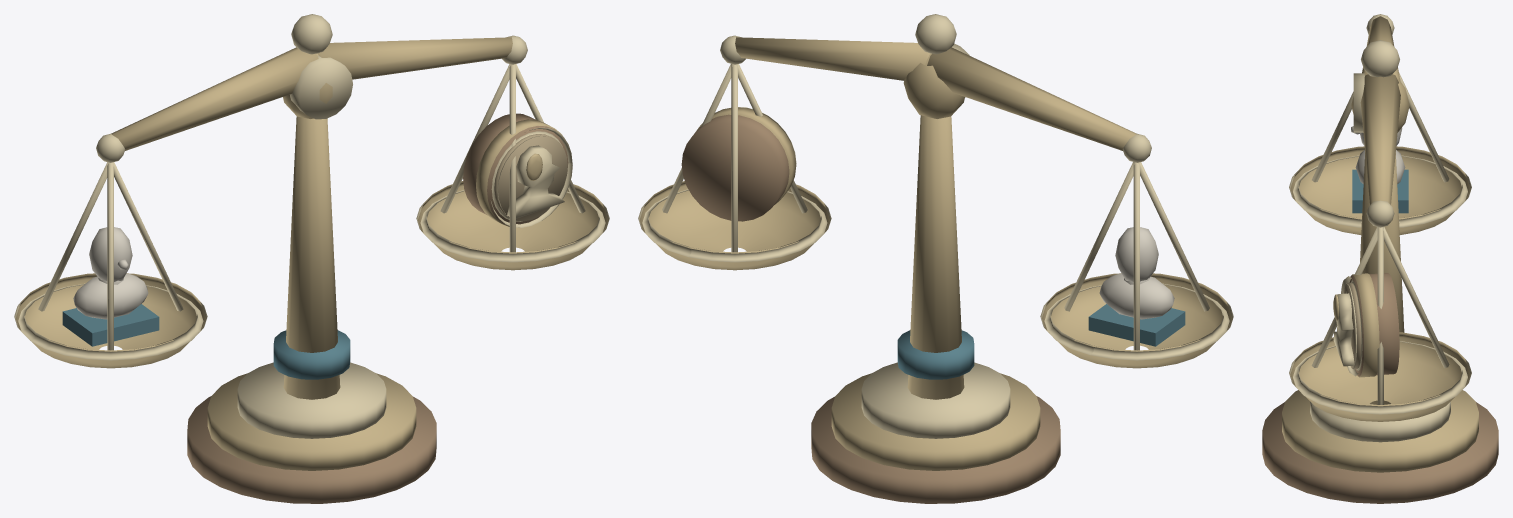
File: ART-31.glb
3 views of the same model, side by side, from view 1: azimuth 30°, elevation 25°; view 2: azimuth 150°, elevation 25°; view 3: azimuth 270°, elevation 25° (orthographic). The views are drawn at different scales.
Visible parts, largest first — view 1: world; view 2: world; view 3: world.
Part boxes in pixels (box(x1,y1,x2,y2)): world: box(14, 14, 609, 503); world: box(638, 14, 1233, 503); world: box(1262, 14, 1498, 503).
Bounding box in the file's own units: 2 × 1.46 × 0.7602.
